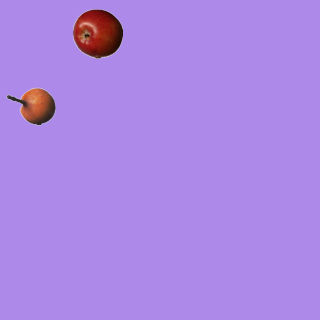Apple Braeburn: (72, 8, 122, 58)
Granadilla: (5, 81, 55, 131)
